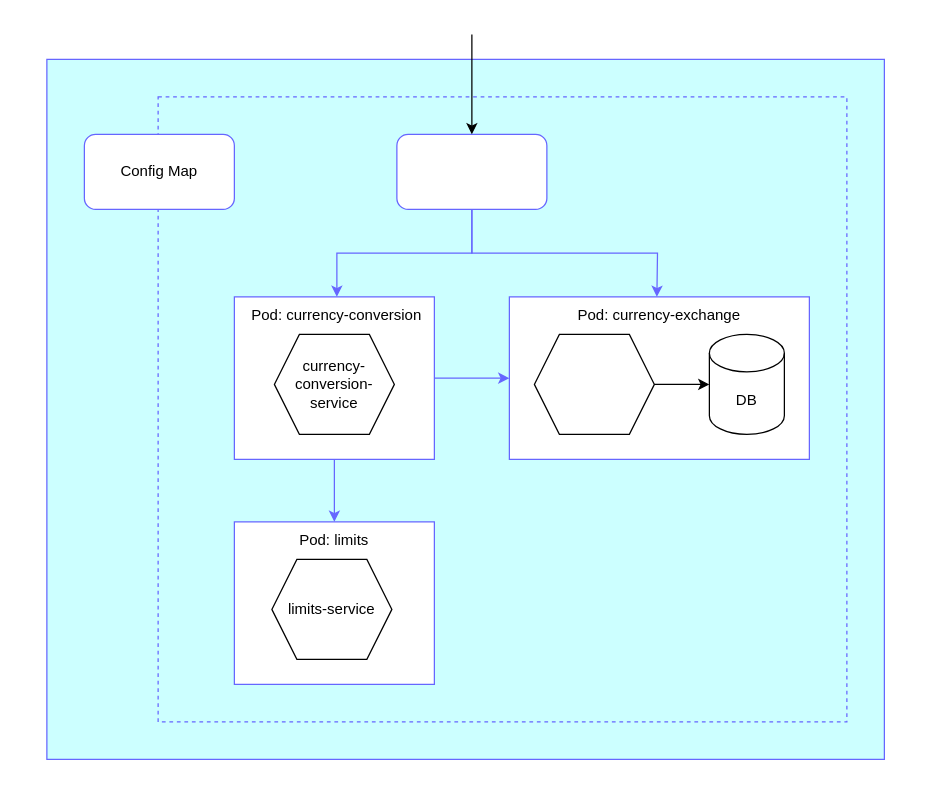
Image size: 930x805. Some labels were removed from this diagram. The shapes that lost their labels are listed below. From the top down, each one's centre as x and y in pixels, then its label:
pixel 471 171: Ingress
pixel 593 383: currency-exchange-service
